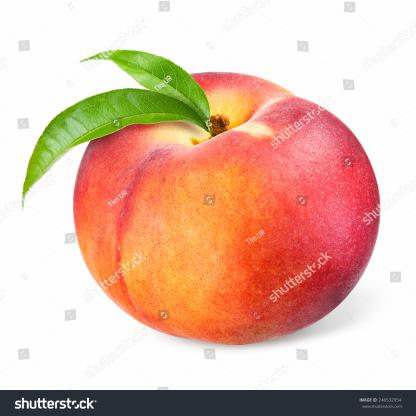Peach leaf: (15, 88, 206, 207), (85, 46, 214, 125)
